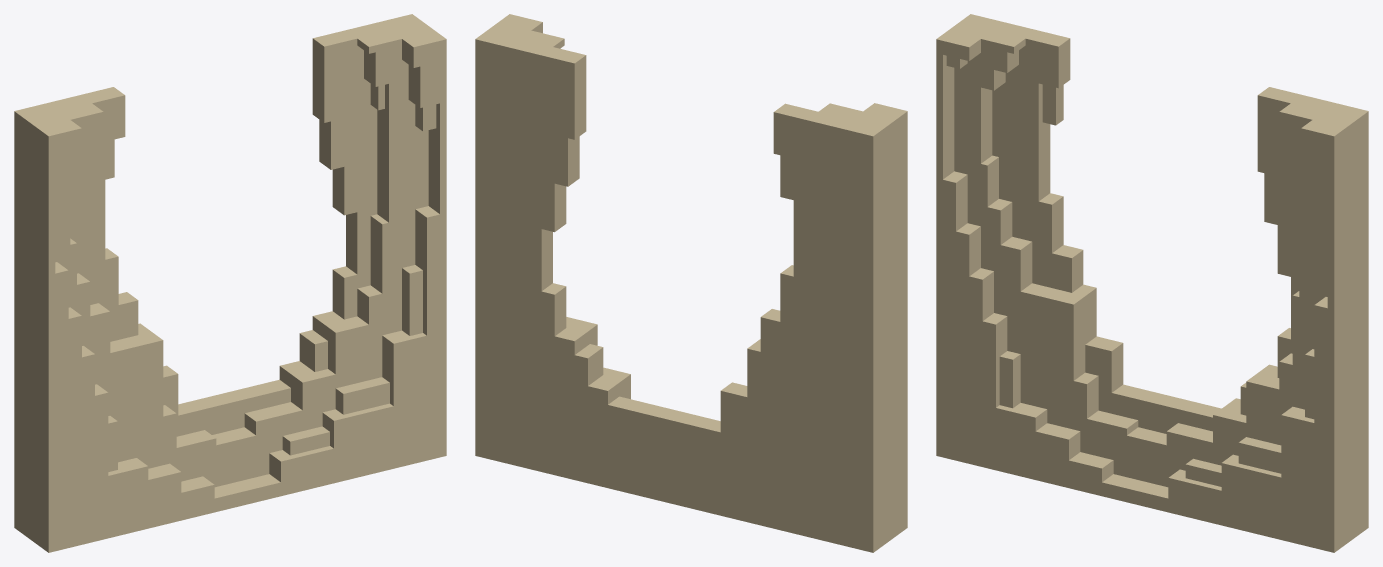
The model's file is horseshoe end 4x4.obj.
The picture shows the model from 3 angles, left to right: view 1: azimuth 30°, elevation 25°; view 2: azimuth 150°, elevation 25°; view 3: azimuth 330°, elevation 25°; orthographic projection.
Size of the model in its own units: 60 by 60 by 9.
1 material, 1 textured.
